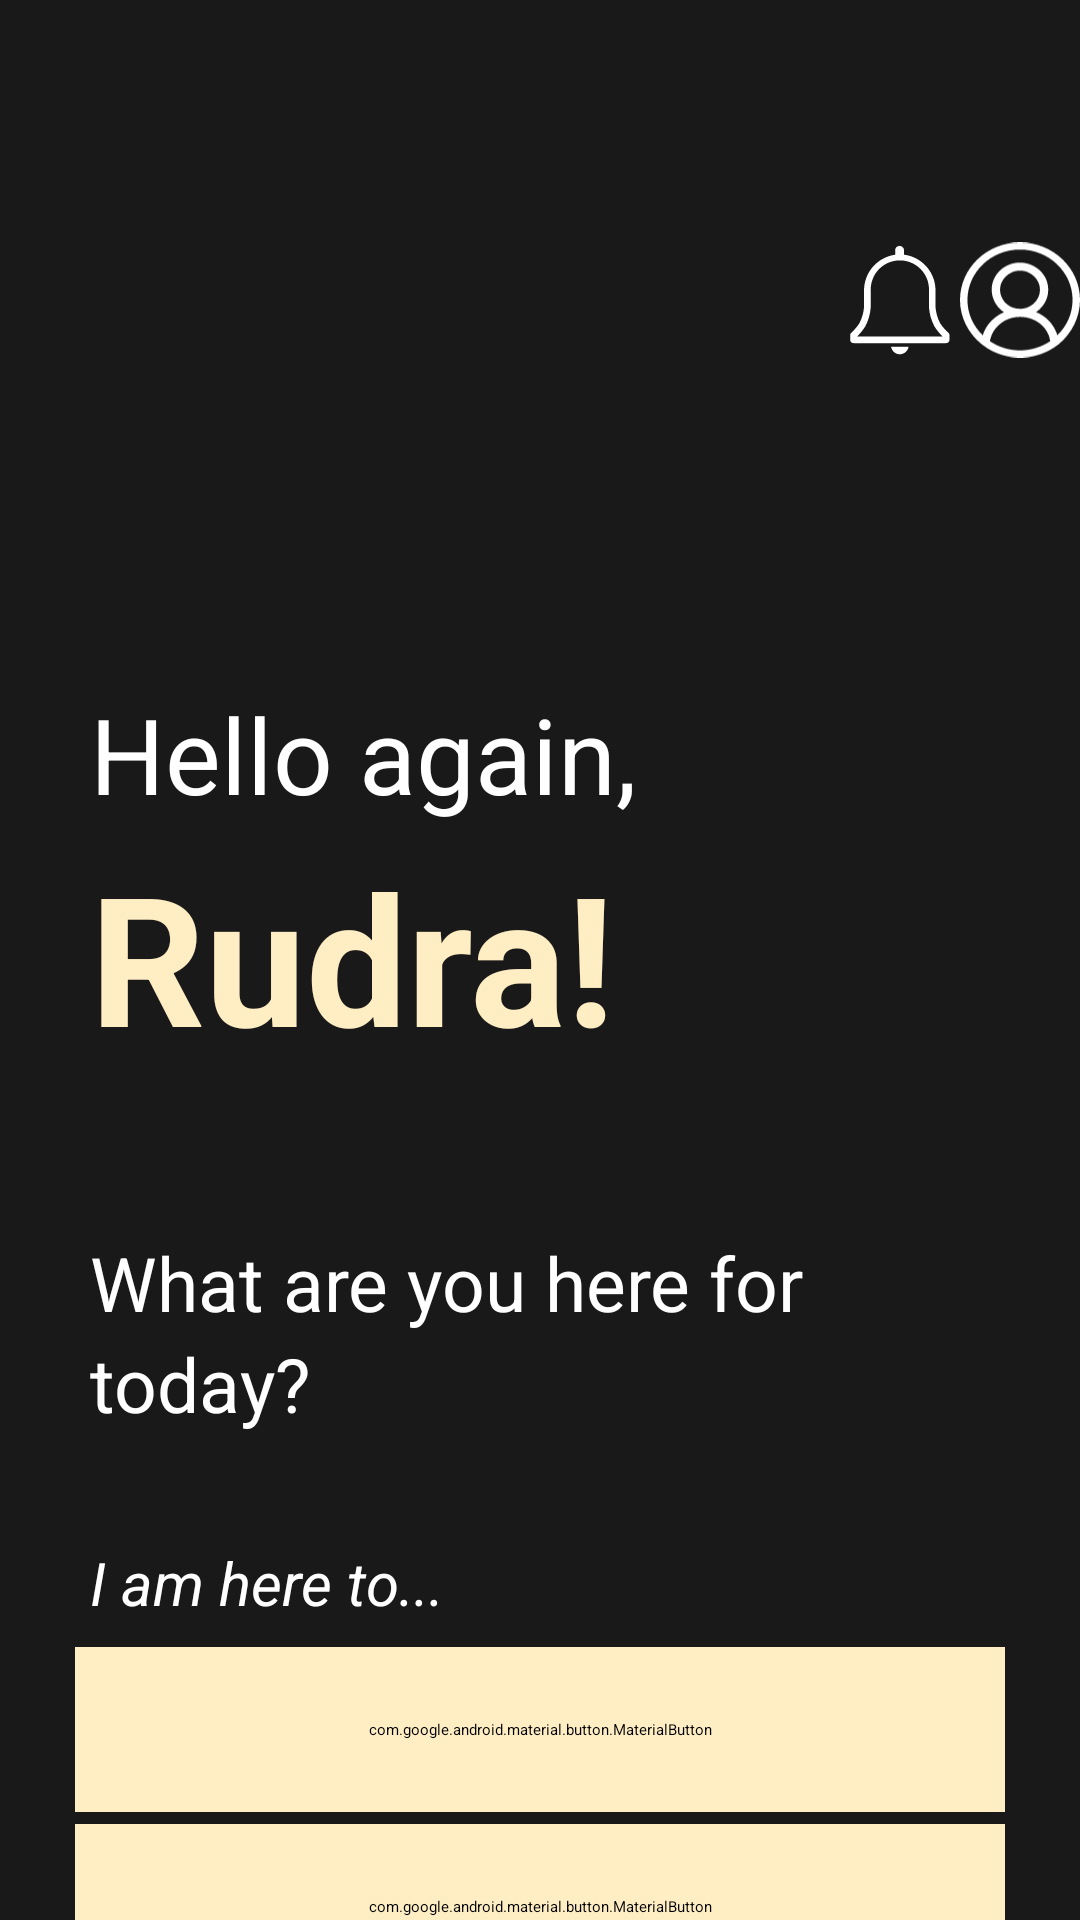

Locate icon controls on the screen. Image size 1080 × 1920, boxes as (x1, y1, x2, y2).
notification: (850, 246, 950, 355)
profile: (960, 242, 1080, 358)
